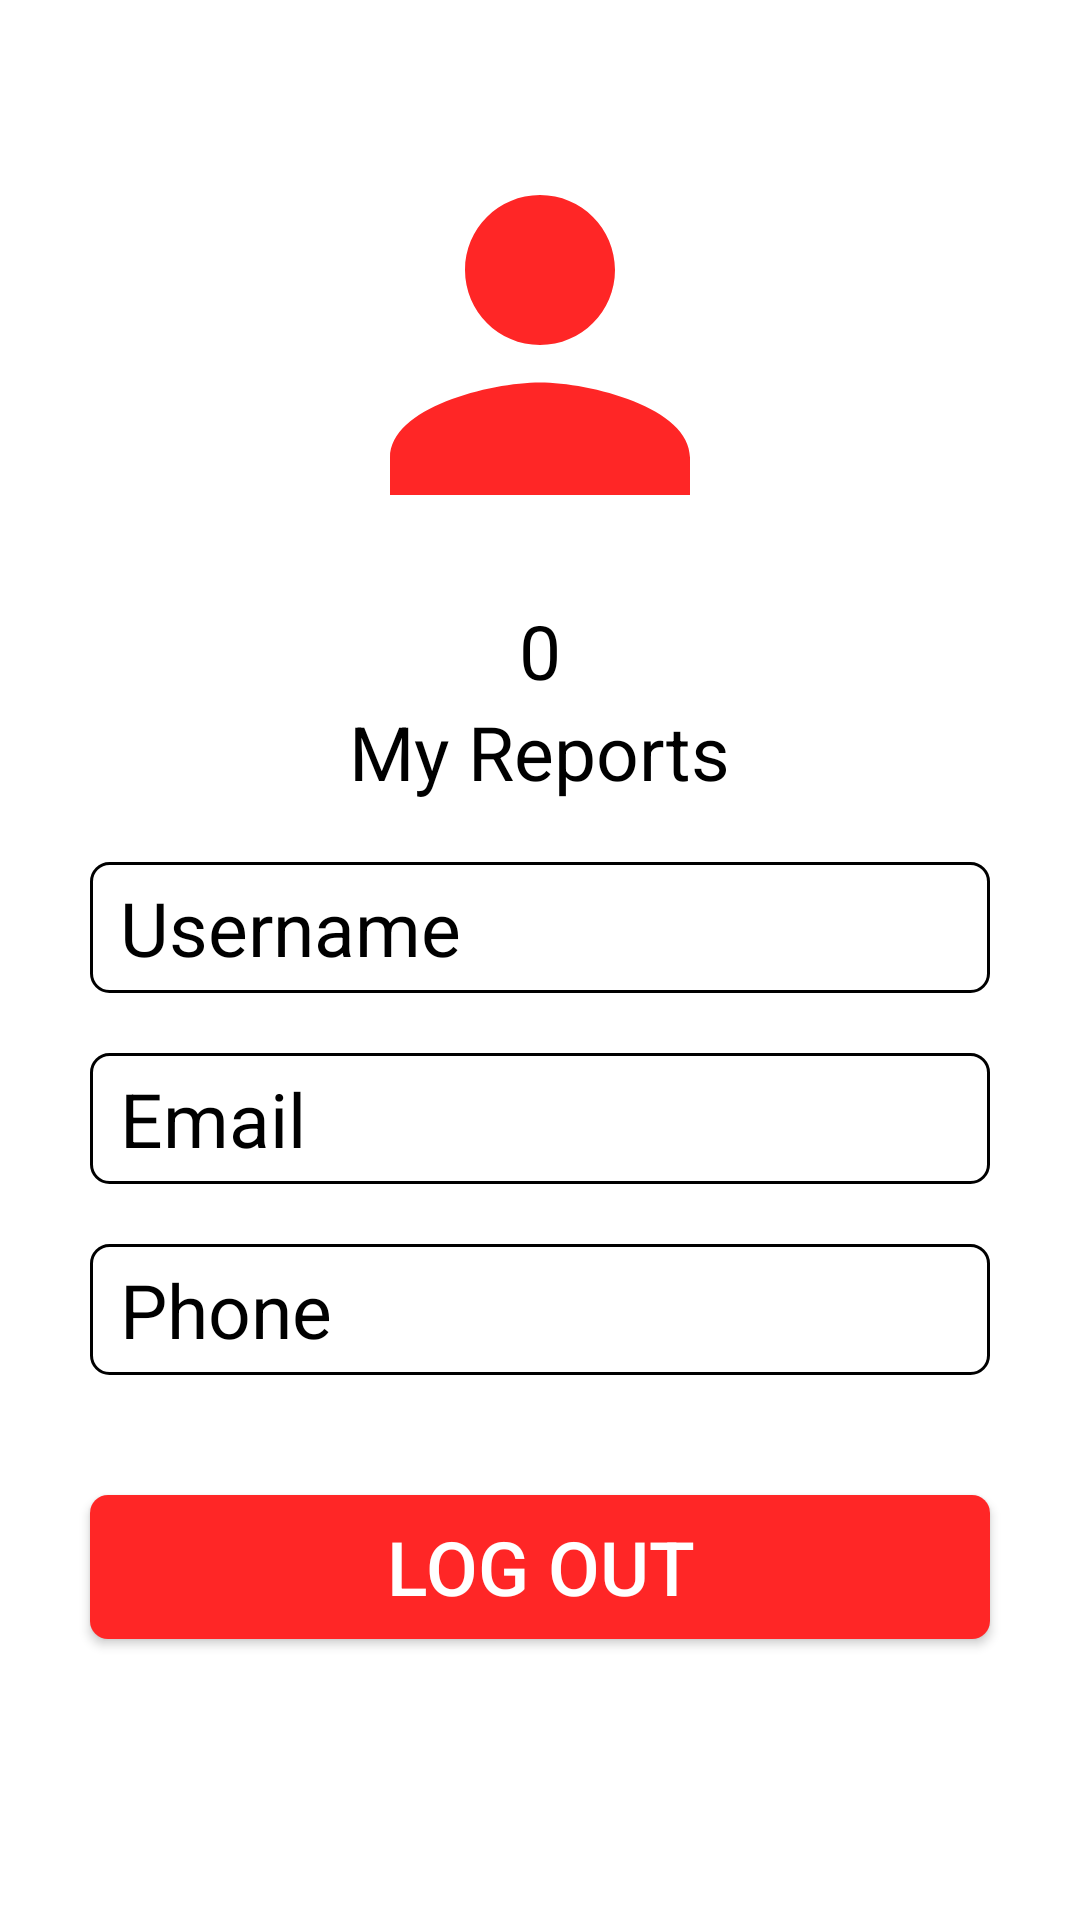

Icon bounding boxes for this 1080w x 1920h phone screenshot, format Rect(x1, y1, x2, y2):
Profile Picture: Rect(390, 195, 690, 495)
